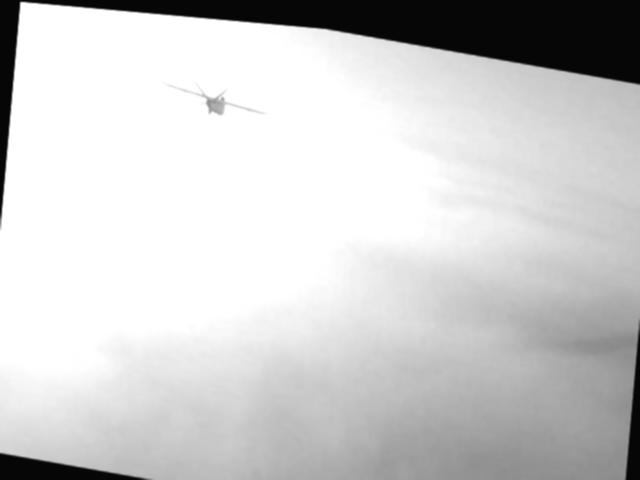hedef: (147, 55, 289, 142)
